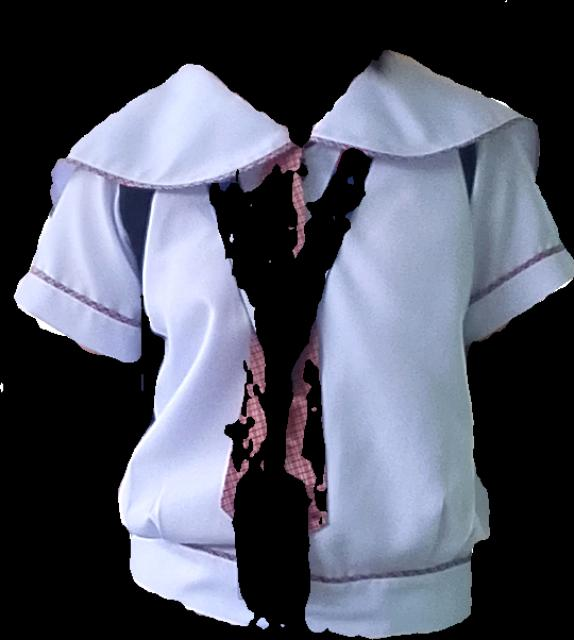pologirl: (14, 50, 573, 639)
